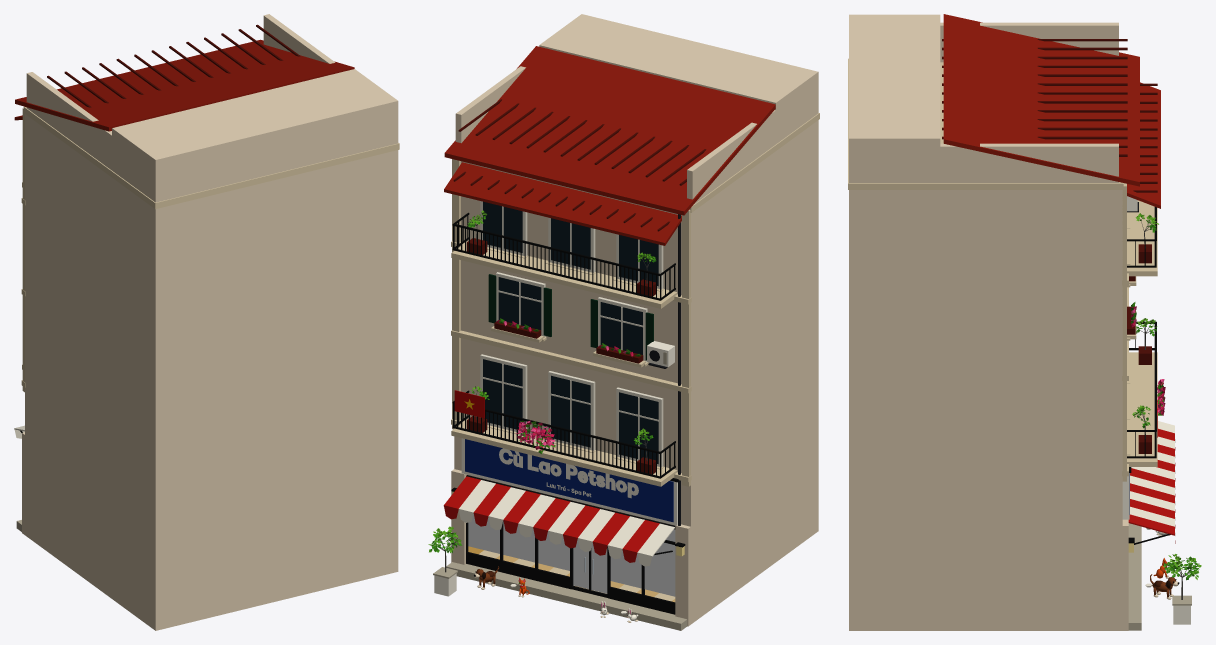
The model's file is PV_StreetShop00_Petshop.fbx.
3 views of the same model, side by side, from view 1: azimuth 30°, elevation 25°; view 2: azimuth 150°, elevation 25°; view 3: azimuth 270°, elevation 25° (orthographic). The views are drawn at different scales.
Visible parts, largest first — view 1: PV_StreetShop00_Petshop_LOD0; view 2: PV_StreetShop00_Petshop_LOD0; view 3: PV_StreetShop00_Petshop_LOD0.
Boxes of the visible parts, left/top/right/bottom form: PV_StreetShop00_Petshop_LOD0: left=14, top=14, right=399, bottom=630; PV_StreetShop00_Petshop_LOD0: left=428, top=14, right=819, bottom=630; PV_StreetShop00_Petshop_LOD0: left=848, top=14, right=1201, bottom=630.
Size of what is drawn, in the model's own units: 8.46 by 15.5 by 10.09.
Materials: 2 (1 with a texture image).
